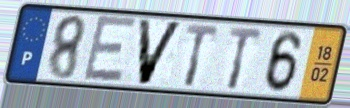6: (263, 29, 306, 96)
8: (45, 13, 88, 81)
E: (80, 13, 139, 84)
T: (183, 22, 221, 90), (226, 25, 264, 93)
V: (136, 17, 186, 87)
